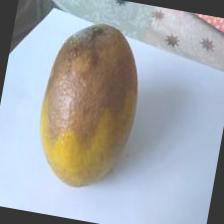Orange Rotten: (22, 9, 161, 207)
